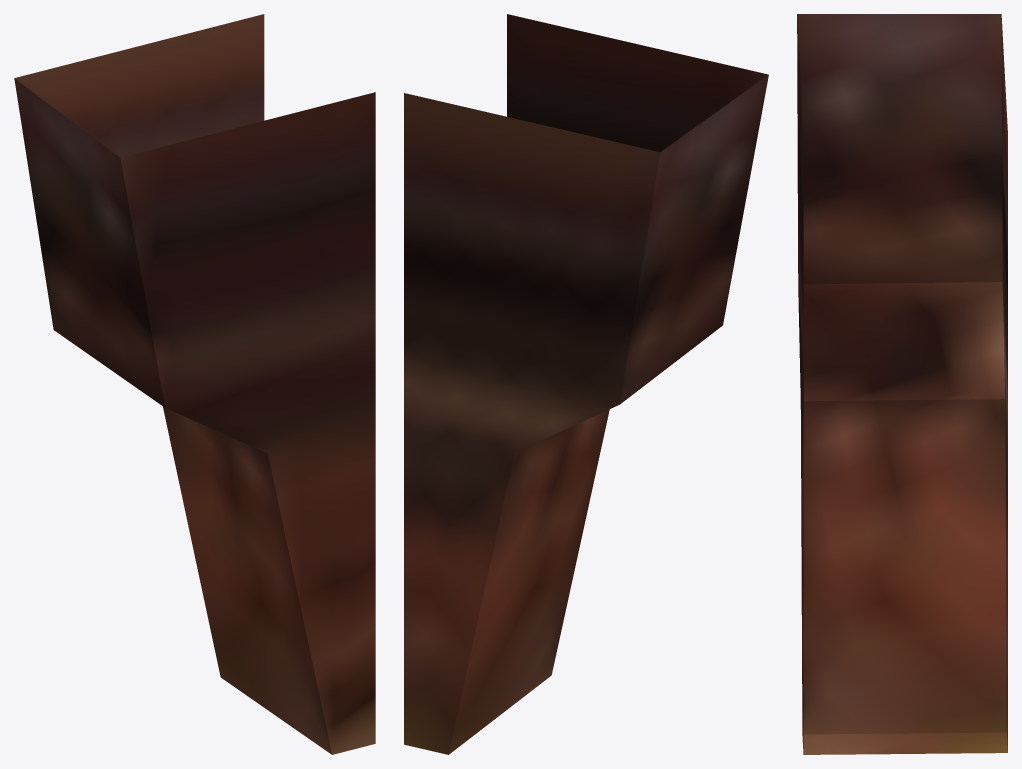
Rendered from object_268_lev3.glb.
The picture shows the model from 3 angles, left to right: view 1: azimuth 30°, elevation 25°; view 2: azimuth 150°, elevation 25°; view 3: azimuth 270°, elevation 25°; orthographic projection. The views are drawn at different scales.
Visible parts, largest first — view 1: object_268_lev3; view 2: object_268_lev3; view 3: object_268_lev3.
Part boxes in pixels (box(x1,y1,x2,y2)): object_268_lev3: box(14, 14, 375, 754); object_268_lev3: box(404, 14, 768, 754); object_268_lev3: box(797, 14, 1007, 754).
Size of the model in its own units: 0.3506 by 0.8444 by 0.2597.
1 material, 1 textured.
